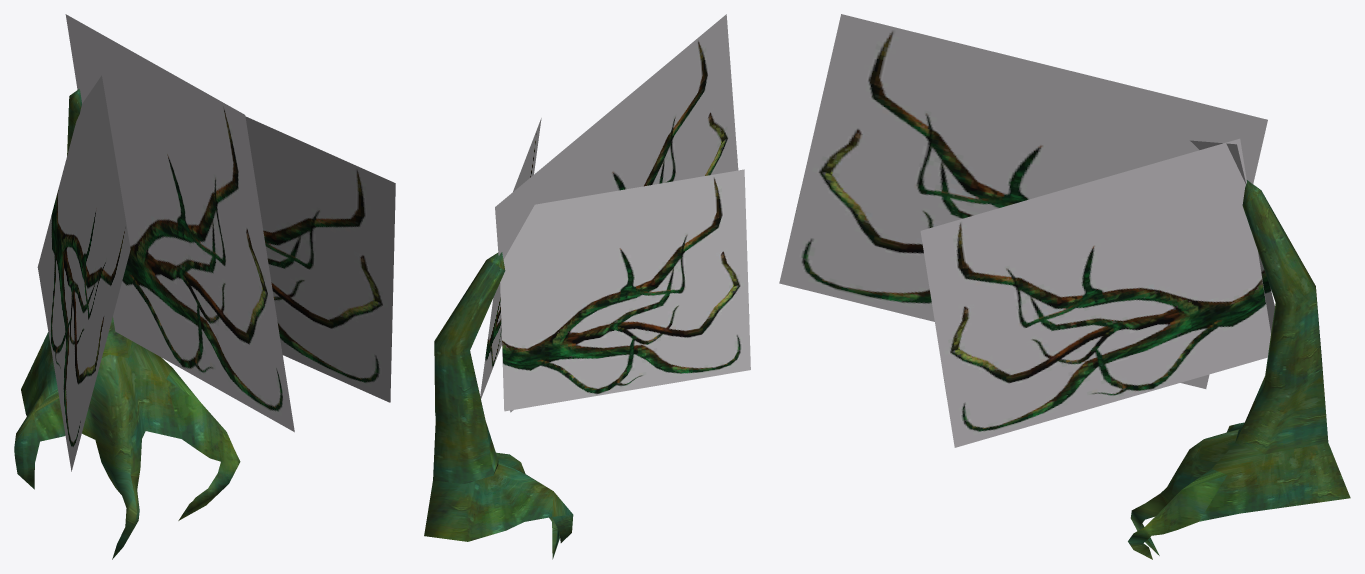
File: INST_MIRK_TREE_SCARYD.obj
3 views of the same model, side by side, from view 1: azimuth 30°, elevation 25°; view 2: azimuth 150°, elevation 25°; view 3: azimuth 270°, elevation 25° (orthographic). The views are drawn at different scales.
Visible parts, largest first — view 1: ScaryTreeD; view 2: ScaryTreeD; view 3: ScaryTreeD.
Boxes of the visible parts, <box> form: ScaryTreeD: <box>14,14,395,559</box>; ScaryTreeD: <box>424,14,750,559</box>; ScaryTreeD: <box>779,14,1350,559</box>.
Size of the model in its own units: 623 by 1123 by 1113.
